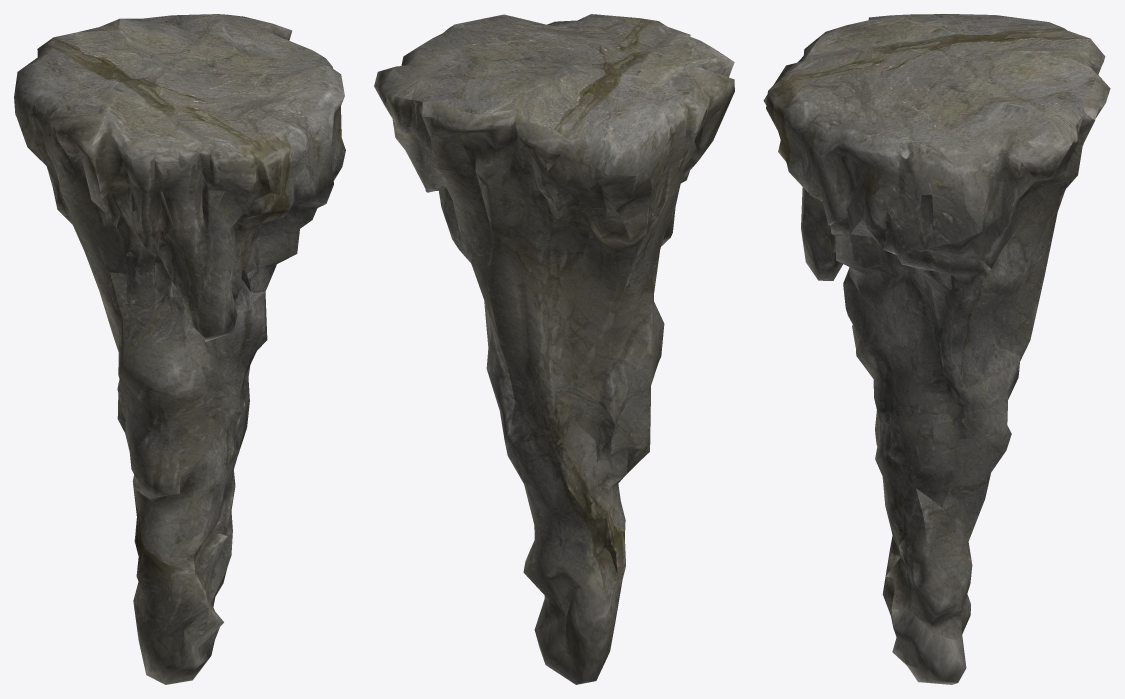
Rendered from surStalagmite01_REF.glb.
The picture shows the model from 3 angles, left to right: view 1: azimuth 30°, elevation 25°; view 2: azimuth 150°, elevation 25°; view 3: azimuth 270°, elevation 25°; orthographic projection. The views are drawn at different scales.
Parts seen in each view (by area): view 1: surStalagmite01 REF.005; view 2: surStalagmite01 REF.005; view 3: surStalagmite01 REF.005.
Boxes of the visible parts, left/top/right/bottom form: surStalagmite01 REF.005: left=14, top=14, right=345, bottom=684; surStalagmite01 REF.005: left=374, top=14, right=734, bottom=684; surStalagmite01 REF.005: left=763, top=14, right=1110, bottom=684.
Bounding box in the file's own units: 3.15 × 6.43 × 3.19.
1 material, 1 textured.
